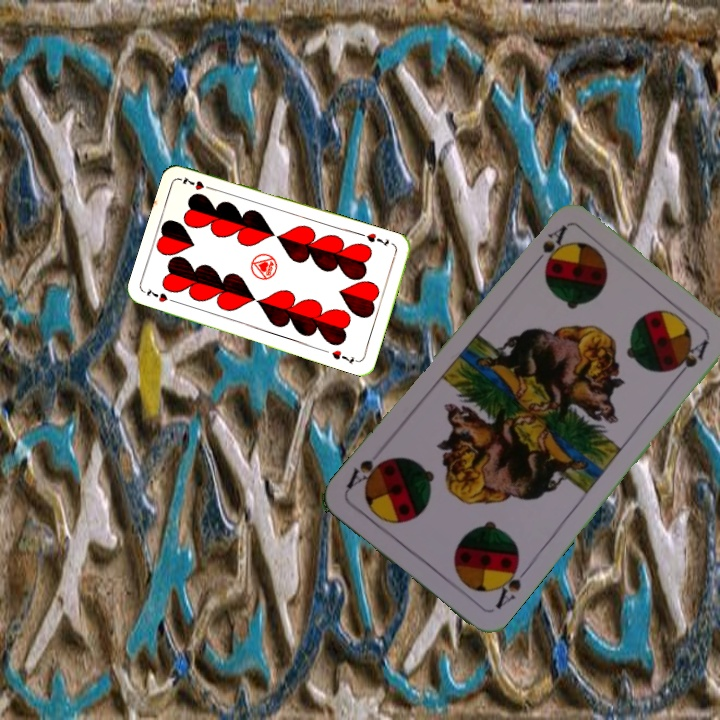H7: (142, 284, 180, 306), (362, 229, 392, 249)
SA: (488, 559, 531, 612), (526, 221, 570, 272)
